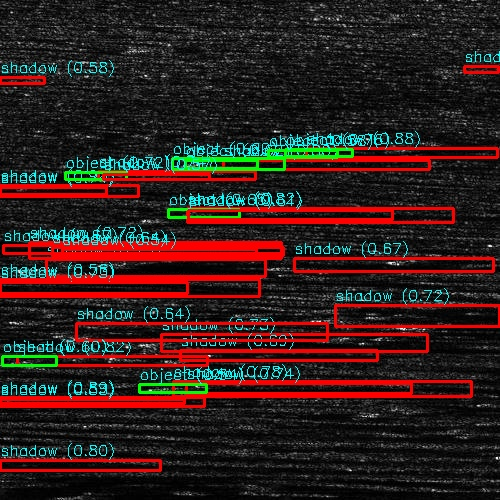rock: (326, 316, 483, 337), (0, 262, 161, 279), (16, 327, 121, 340), (119, 335, 202, 350), (124, 210, 187, 225), (265, 147, 348, 158), (407, 426, 500, 435), (22, 492, 115, 500), (0, 478, 43, 495), (129, 383, 192, 394), (91, 254, 154, 265), (0, 359, 66, 368), (276, 313, 359, 320), (282, 262, 365, 269), (199, 161, 262, 166), (75, 173, 138, 178), (47, 252, 100, 257), (156, 357, 197, 360)
shadow: (0, 383, 207, 422), (0, 478, 384, 495), (47, 262, 378, 279), (69, 327, 462, 340), (156, 210, 492, 225), (161, 335, 497, 350), (0, 231, 233, 250), (123, 254, 500, 265), (161, 383, 492, 394), (69, 492, 446, 500), (307, 147, 500, 158), (405, 316, 500, 337), (74, 252, 471, 257), (20, 359, 211, 368), (324, 262, 500, 269), (0, 186, 211, 191), (231, 161, 437, 166), (107, 173, 307, 178), (0, 76, 69, 83), (318, 313, 387, 320), (454, 426, 500, 435), (0, 179, 41, 188), (0, 286, 73, 291), (177, 357, 244, 360), (0, 328, 15, 339), (0, 161, 39, 164)
